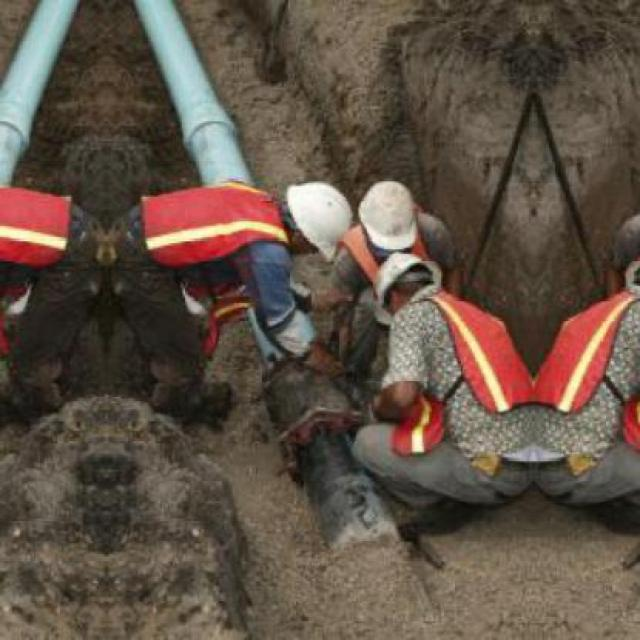Reflective-Jacket: (375, 271, 532, 480), (530, 281, 640, 487), (117, 182, 302, 300), (0, 174, 96, 303)
Safety-Helmet: (275, 174, 356, 268), (352, 170, 438, 258), (597, 197, 640, 278)
